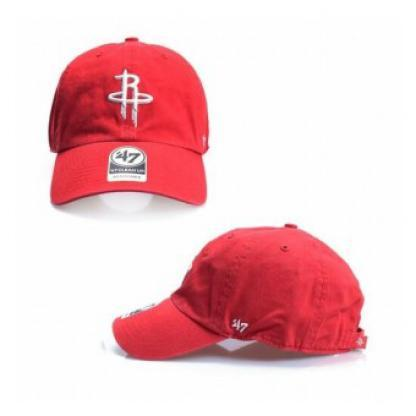cap: (93, 215, 378, 373), (45, 35, 213, 211)
